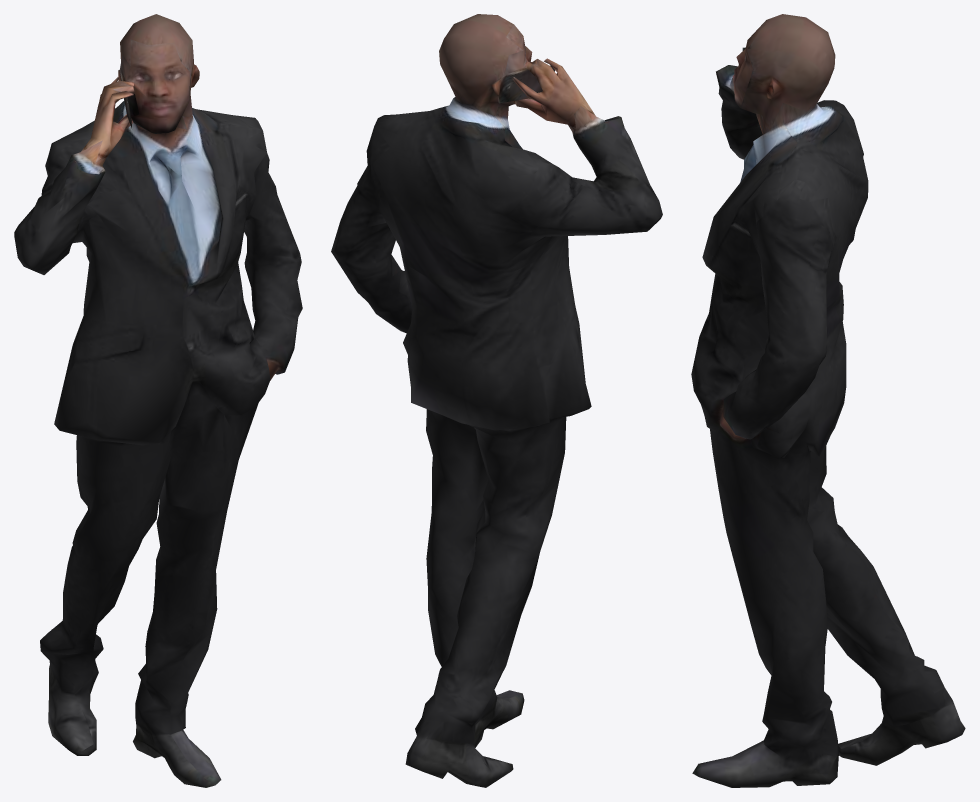
3 renders of one model, left to right at view 1: azimuth 30°, elevation 25°; view 2: azimuth 150°, elevation 25°; view 3: azimuth 270°, elevation 25°, orthographic. The views are drawn at different scales.
Visible parts, largest first — view 1: Mesh1_Material_1_0; view 2: Mesh1_Material_1_0; view 3: Mesh1_Material_1_0.
Boxes of the visible parts, bbox=[...] form: Mesh1_Material_1_0: bbox=[14, 14, 302, 787]; Mesh1_Material_1_0: bbox=[331, 14, 662, 787]; Mesh1_Material_1_0: bbox=[691, 14, 965, 787].
Size of the model in its own units: 0.7669 by 1.8 by 0.5901.
1 material, 1 textured.
